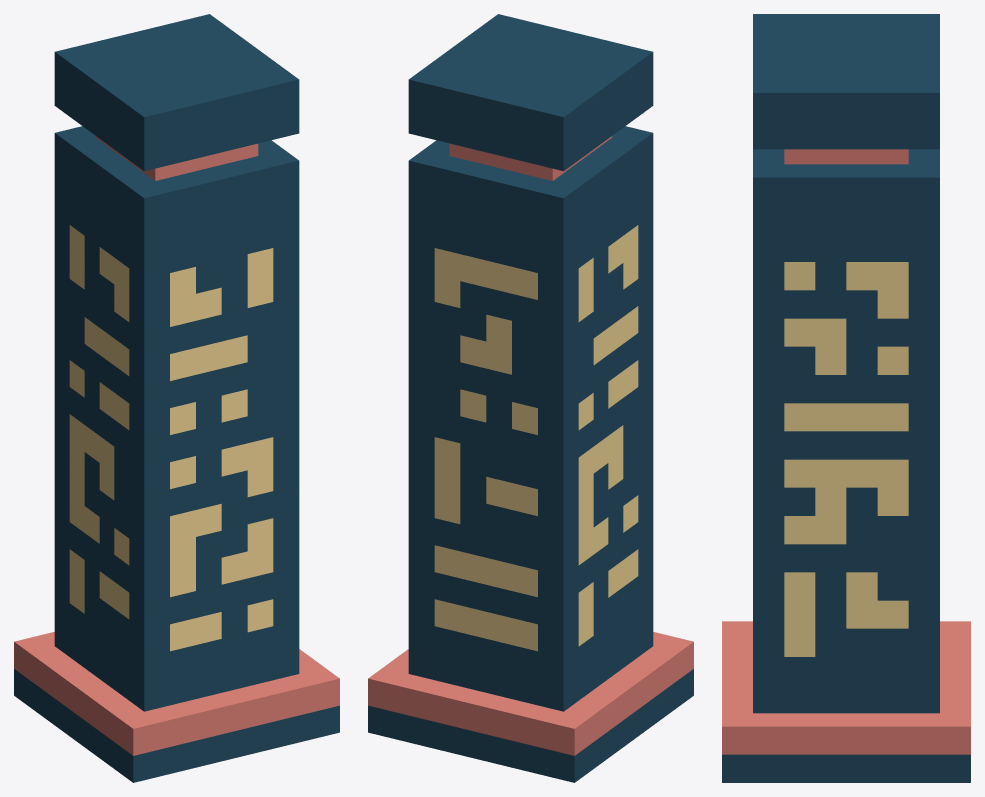
The model's file is BS_Pillar_Big_1.fbx.
The picture shows the model from 3 angles, left to right: view 1: azimuth 30°, elevation 25°; view 2: azimuth 150°, elevation 25°; view 3: azimuth 270°, elevation 25°; orthographic projection. The views are drawn at different scales.
Visible parts, largest first — view 1: BS_Pillar_Big_1; view 2: BS_Pillar_Big_1; view 3: BS_Pillar_Big_1.
Boxes of the visible parts, box(x1,y1,x2,y2) form: BS_Pillar_Big_1: box(14, 14, 339, 782); BS_Pillar_Big_1: box(368, 14, 693, 782); BS_Pillar_Big_1: box(722, 14, 970, 782).
Size of the model in its own units: 20 by 20 by 60.
